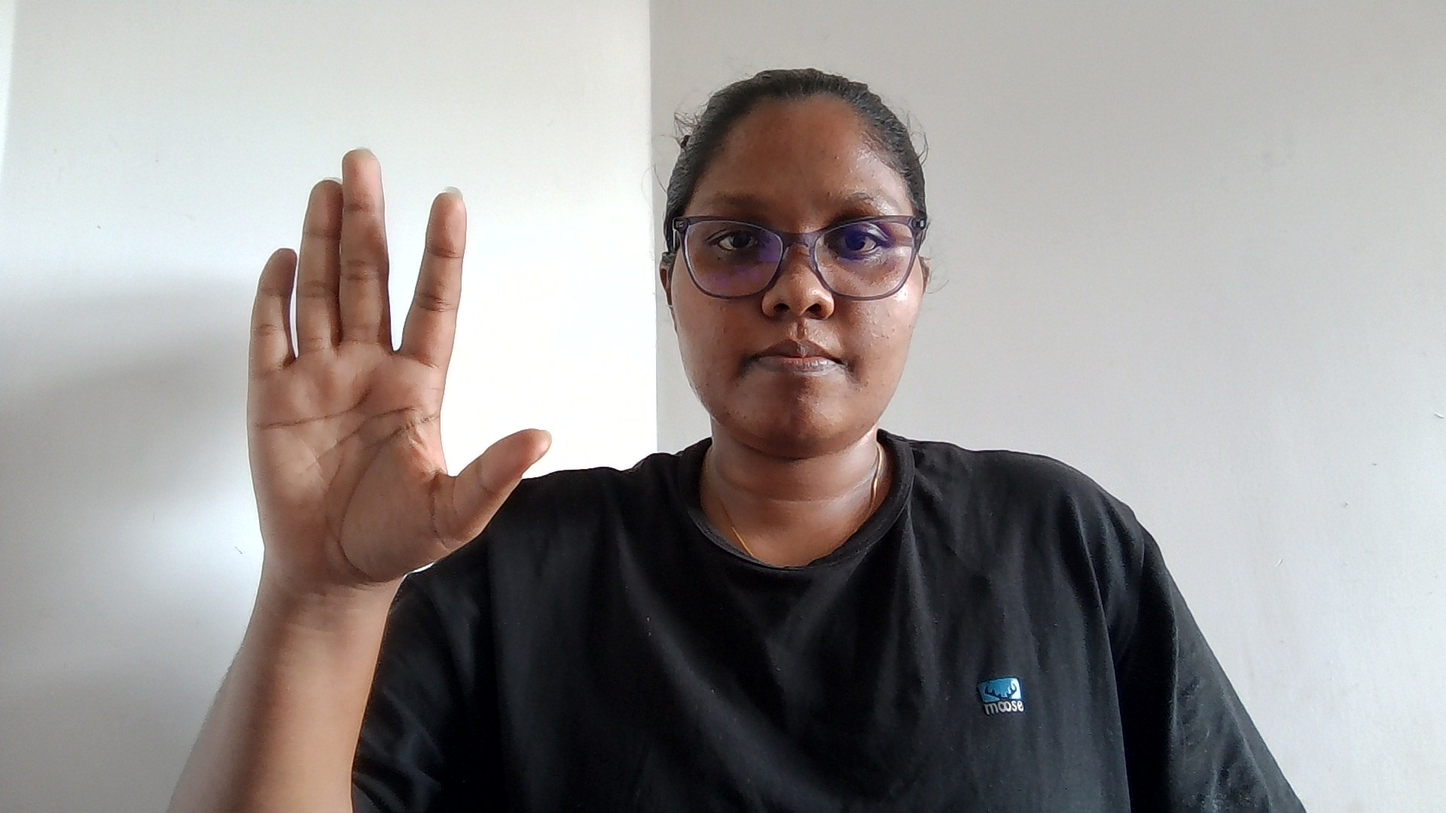Hello: (226, 136, 607, 696)
